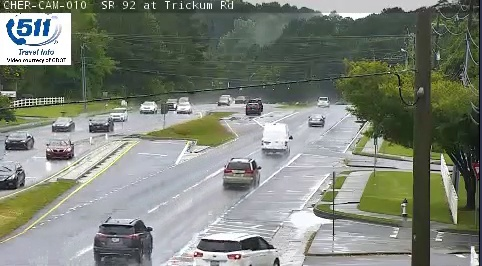car: (94, 220, 153, 257), (224, 159, 260, 186), (309, 115, 324, 126)
van: (262, 123, 289, 154)
